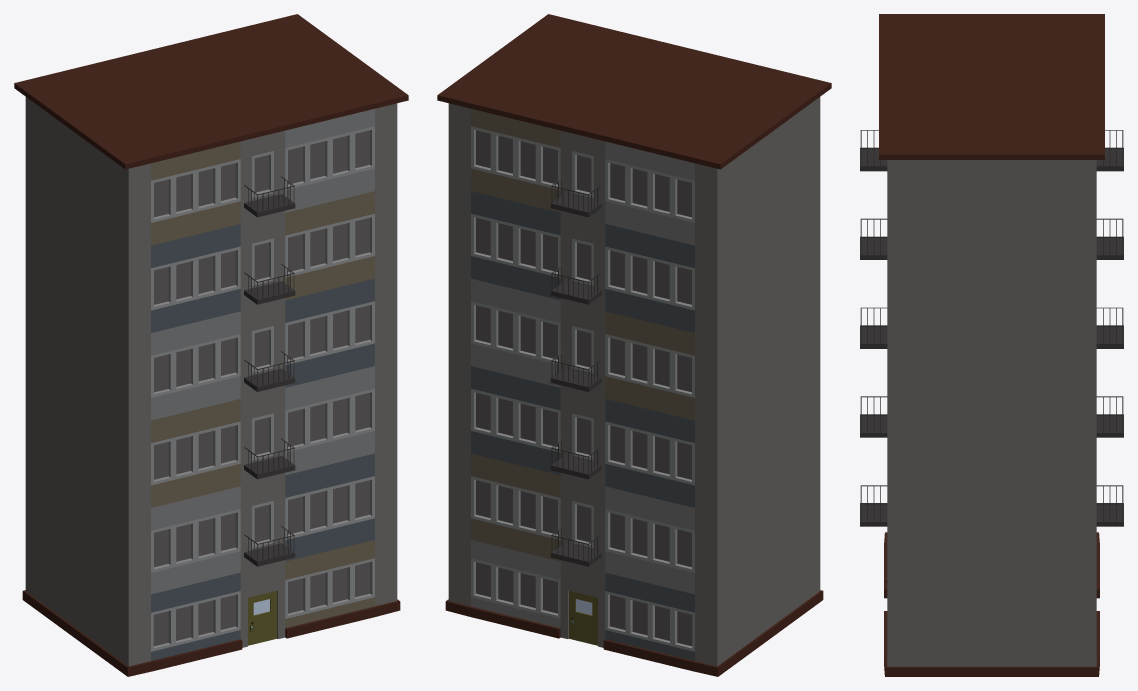
The model's file is HOUSE .fbx.
3 views of the same model, side by side, from view 1: azimuth 30°, elevation 25°; view 2: azimuth 150°, elevation 25°; view 3: azimuth 270°, elevation 25° (orthographic).
Visible parts, largest first — view 1: Cube.002; view 2: Cube.002; view 3: Cube.002.
Part boxes in pixels (bbox=[...]): Cube.002: bbox=[14, 14, 408, 676]; Cube.002: bbox=[437, 14, 831, 676]; Cube.002: bbox=[860, 14, 1123, 676].
Bounding box in the file's own units: 1191 × 2075 × 944.
